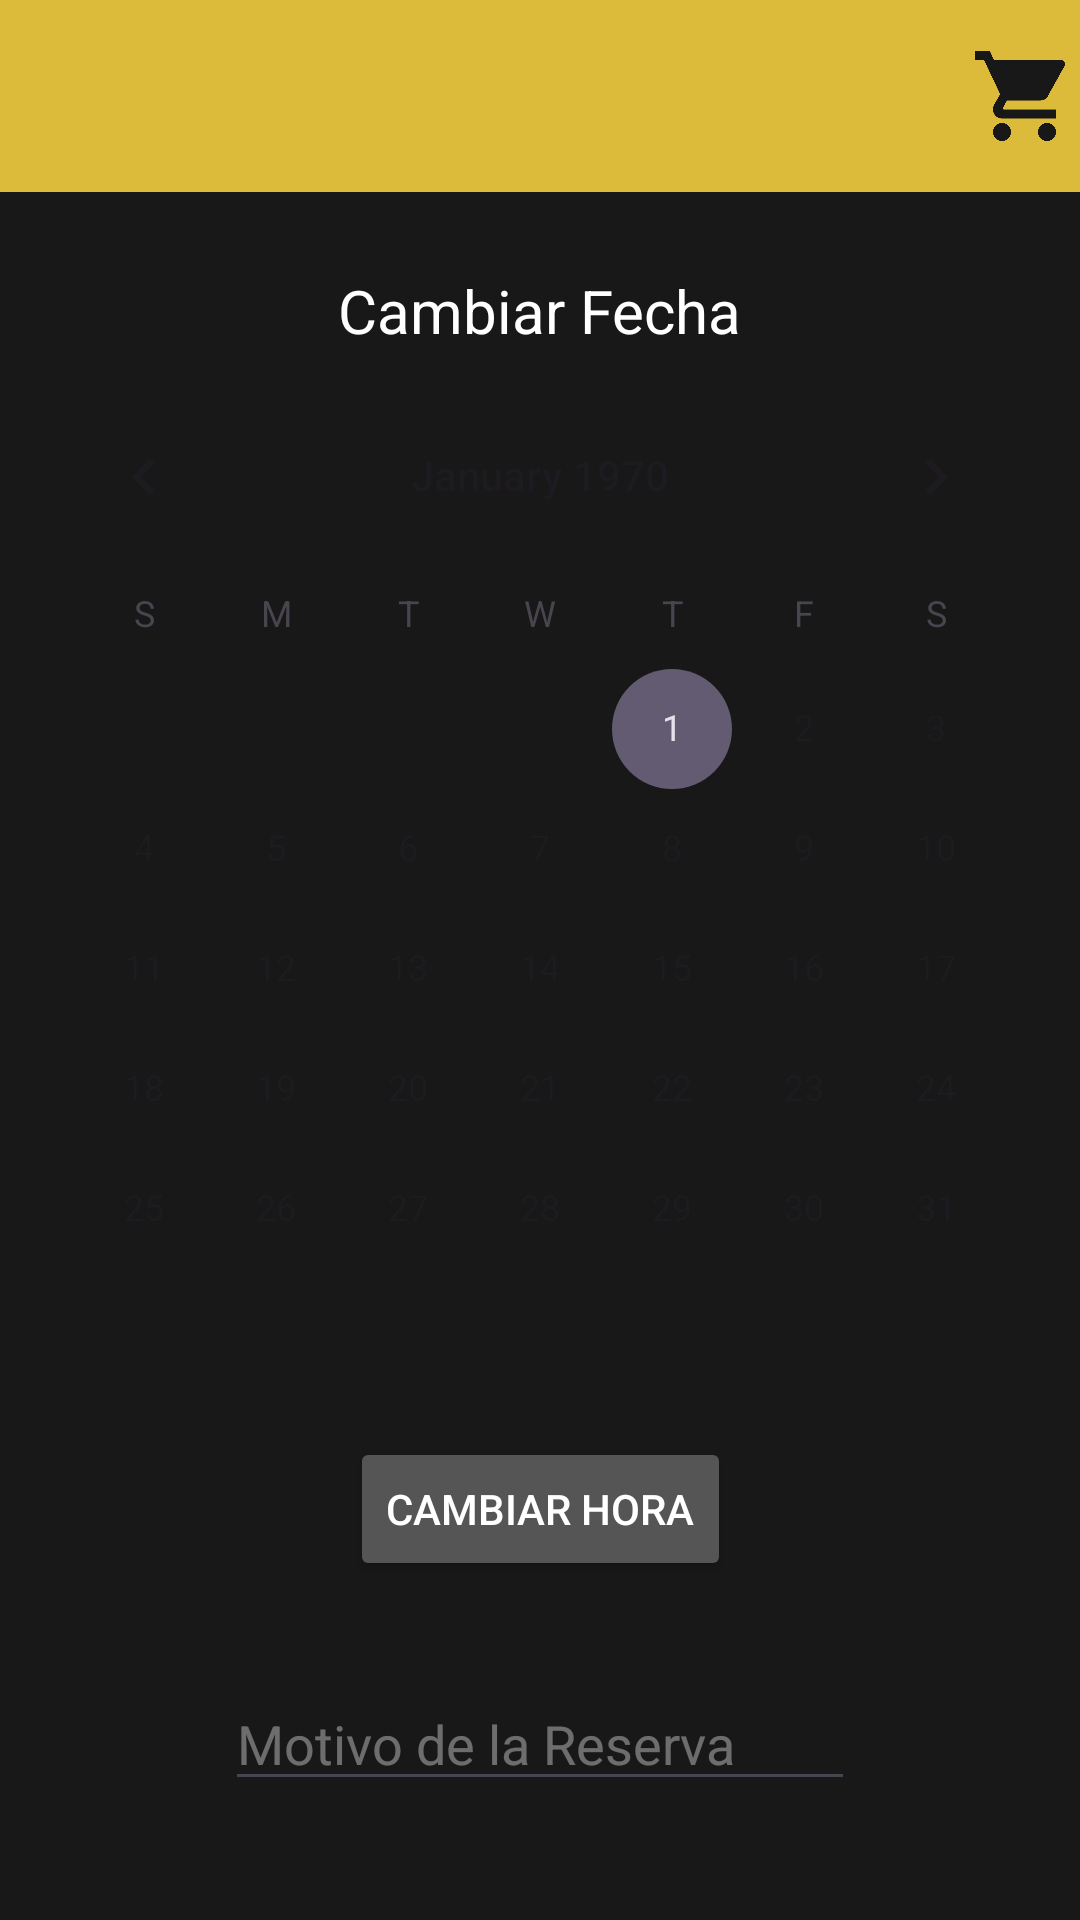

Named icons in this screenshot (1080x1920) and their bounding boxes, [x1,y1,x2,y2]:
carro: [975,51,1065,141]
